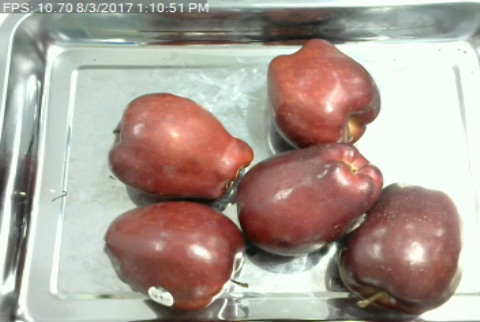Apple: (231, 140, 388, 259), (329, 180, 469, 312), (103, 89, 254, 206), (99, 198, 247, 314), (265, 33, 384, 151)
